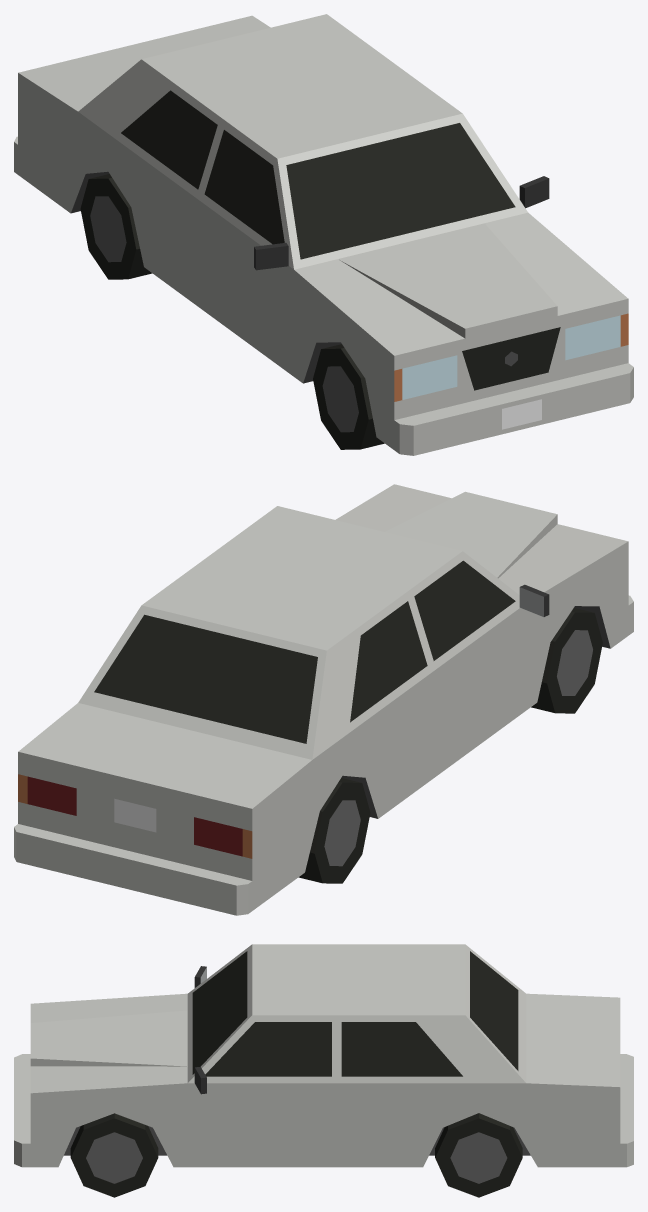
File: Veh_Sedan_02_White.obj
The picture shows the model from 3 angles, top to bottom: view 1: azimuth 30°, elevation 25°; view 2: azimuth 150°, elevation 25°; view 3: azimuth 270°, elevation 25°; orthographic projection. The views are drawn at different scales.
Bounding box in the file's own units: 1.16 × 0.8379 × 2.72.
